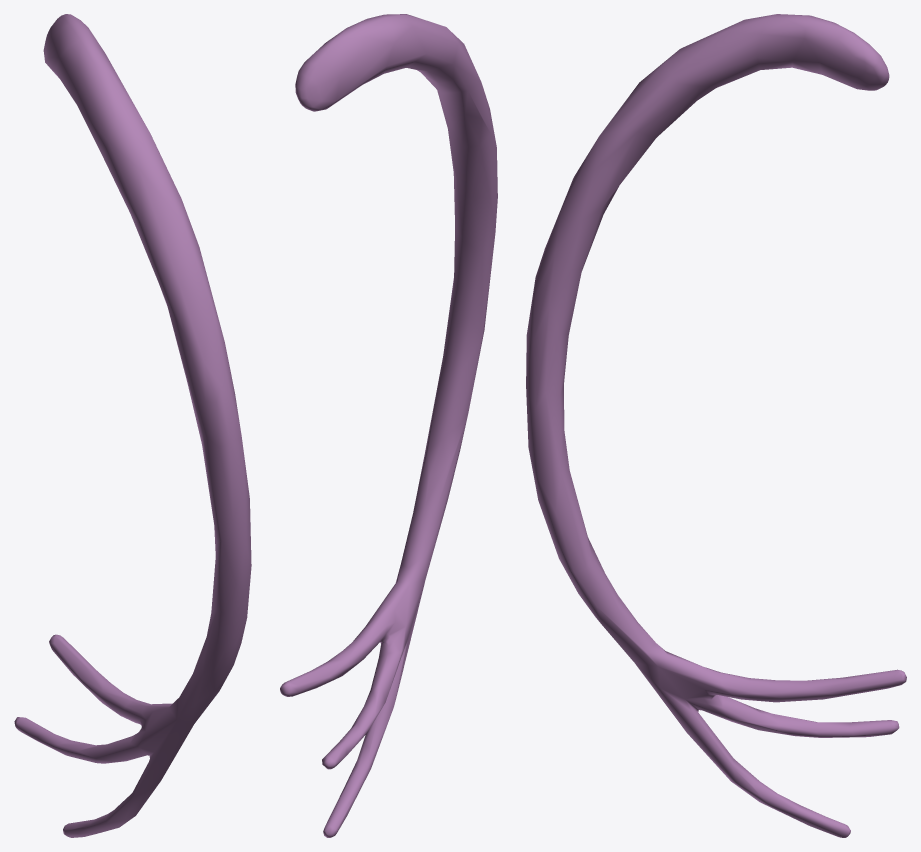
The picture shows the model from 3 angles, left to right: view 1: azimuth 30°, elevation 25°; view 2: azimuth 150°, elevation 25°; view 3: azimuth 270°, elevation 25°; orthographic projection. The views are drawn at different scales.
Visible parts, largest first — view 1: 右侧丘脑髓纹; view 2: 右侧丘脑髓纹; view 3: 右侧丘脑髓纹.
Part boxes in pixels (x1,y1,x2,y2): 右侧丘脑髓纹: (14, 14, 251, 837); 右侧丘脑髓纹: (280, 14, 497, 837); 右侧丘脑髓纹: (526, 14, 906, 837).
Bounding box in the file's own units: 0.00543 × 0.0526 × 0.0223.
